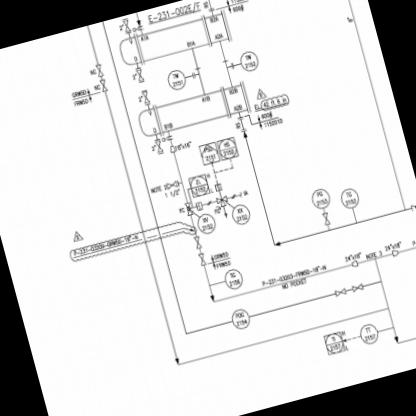LMI: (160, 64, 189, 98), (221, 262, 249, 294), (307, 178, 334, 210), (236, 45, 262, 75), (228, 304, 253, 334), (358, 320, 382, 350), (336, 184, 362, 210), (229, 200, 254, 226), (194, 211, 218, 237)
TAG: (319, 326, 347, 358), (186, 171, 212, 199), (216, 134, 240, 160)
